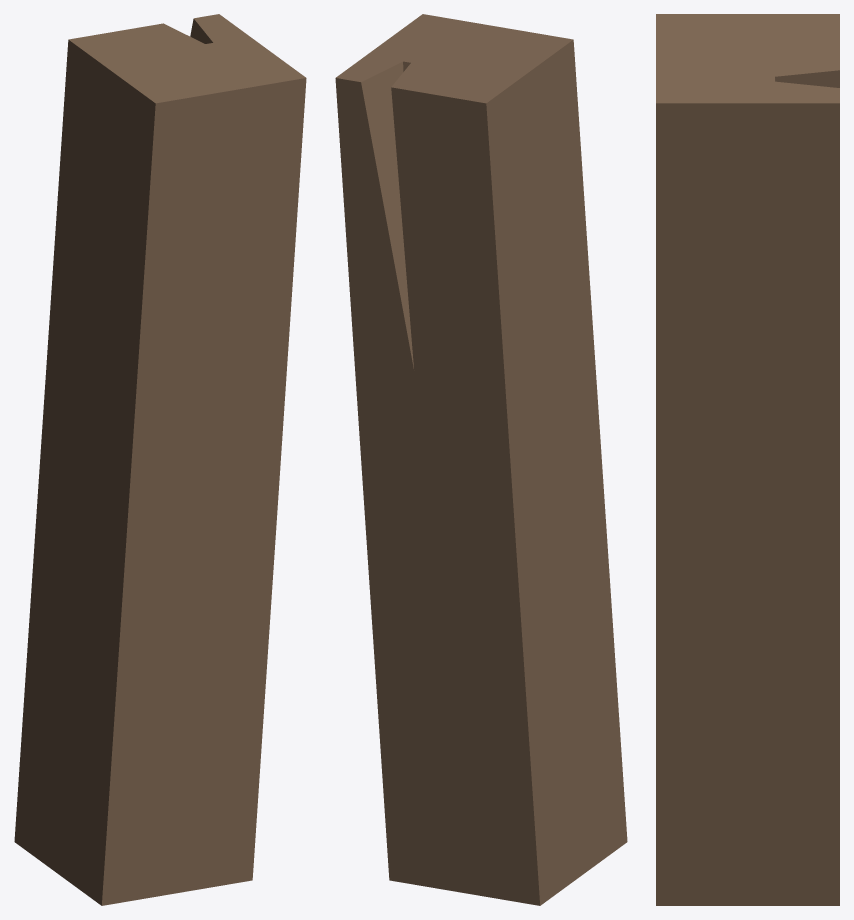
Rendered from Hilly_Prop_Fence_Post_4.obj.
3 views of the same model, side by side, from view 1: azimuth 30°, elevation 25°; view 2: azimuth 150°, elevation 25°; view 3: azimuth 270°, elevation 25° (orthographic). The views are drawn at different scales.
Visible parts, largest first — view 1: object1; view 2: object1; view 3: object1.
Part boxes in pixels (x1=…): object1: x1=14, y1=14, x2=306, y2=905; object1: x1=335, y1=14, x2=627, y2=905; object1: x1=656, y1=14, x2=839, y2=905.
Size of the model in its own units: 0.2031 by 0.7588 by 0.15.
